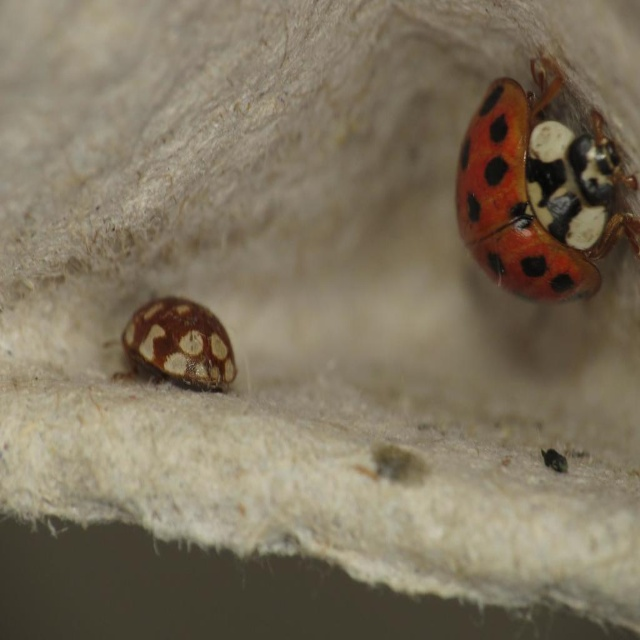Ladybug: (454, 50, 640, 305), (105, 293, 237, 389)
